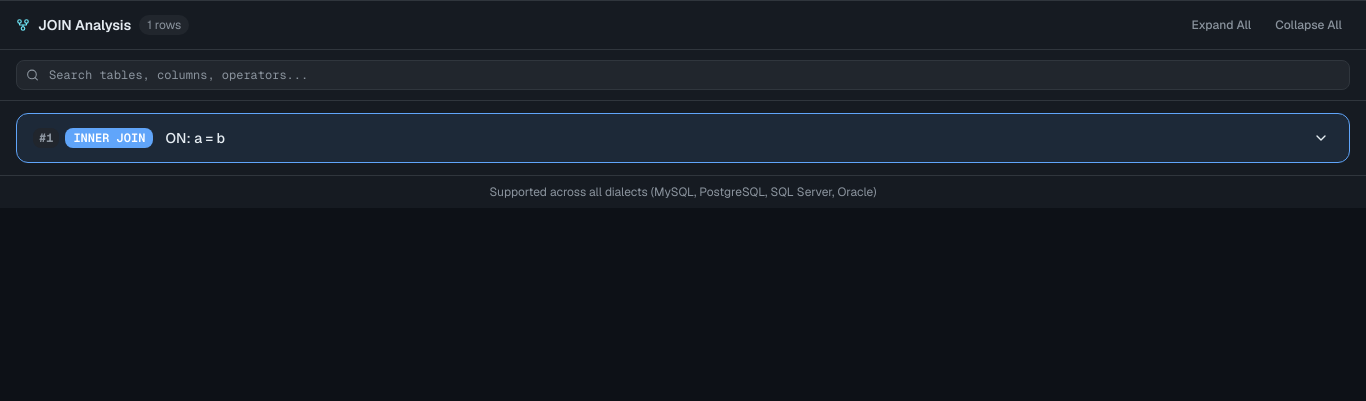
Scenario: join relationship details (019 A26, U23, U24, U25) › U23: relationship ends render display name and alias, not the internal source id
Click the text "ON: a = b". click: point(195, 138)
box: x1=165 y1=129 x2=225 y2=147
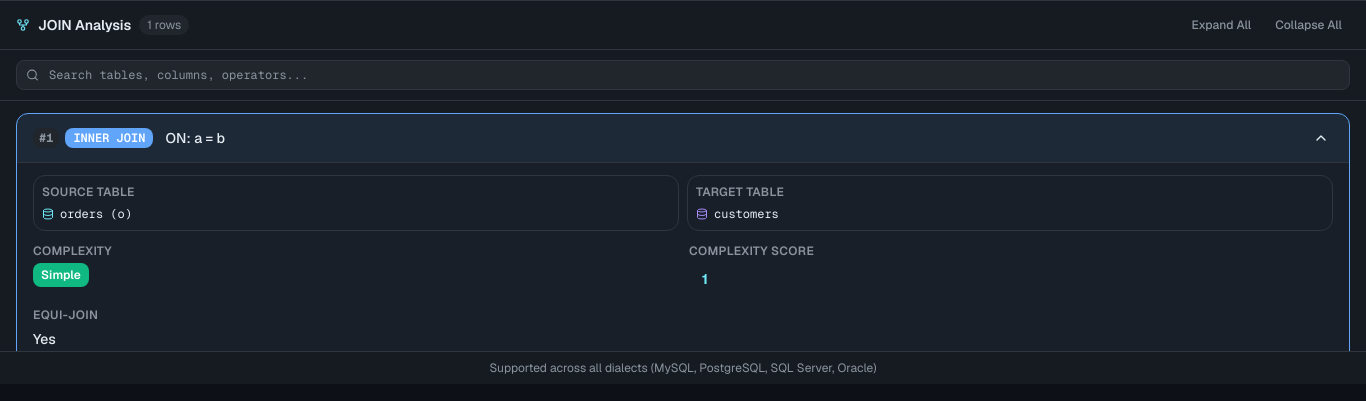
Now the text "orders (o)" is shown, box x1=60 y1=206 x2=132 y2=222
Now the text "customers" is shown, box x1=714 y1=206 x2=779 y2=222
